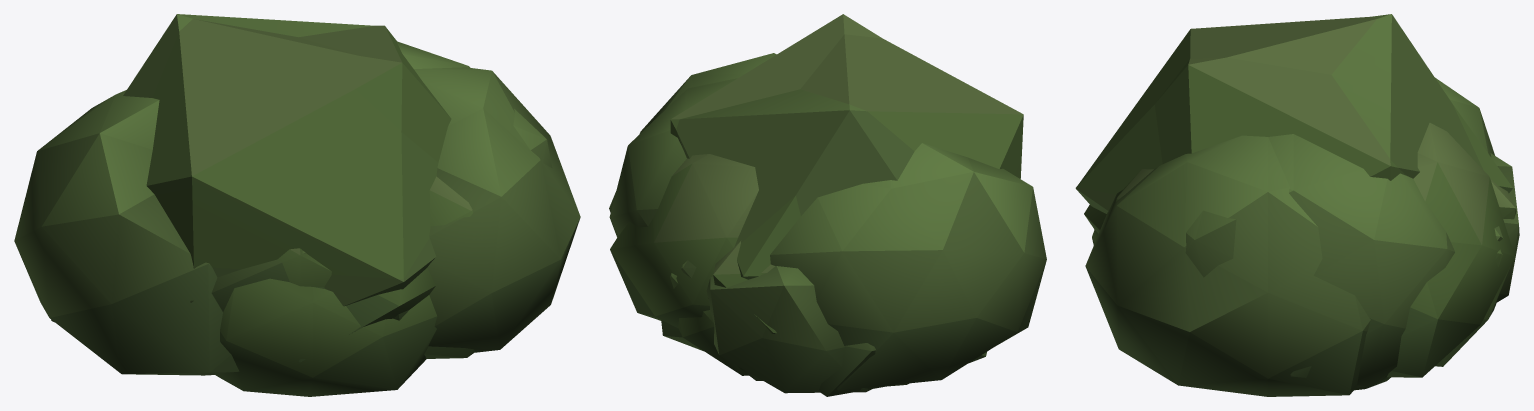
The model's file is arbusto.glb.
3 views of the same model, side by side, from view 1: azimuth 30°, elevation 25°; view 2: azimuth 150°, elevation 25°; view 3: azimuth 270°, elevation 25° (orthographic). The views are drawn at different scales.
Visible parts, largest first — view 1: lo_0, hd_3, hd_5, hd_4, lo_2, hd_0, lo_5, lo_1, hd_1, hd_2; view 2: hd_3, lo_5, lo_0, hd_2, hd_1, lo_2, hd_5, hd_0, lo_4; view 3: hd_5, hd_1, lo_2, hd_2, lo_0, lo_5, hd_3, hd_0, lo_4, lo_1.
Part boxes in pixels (left/top/right/bottom): lo_0: left=146, top=19, right=438, bottom=278; hd_3: left=14, top=90, right=305, bottom=375; hd_5: left=51, top=67, right=580, bottom=352; hd_4: left=214, top=278, right=437, bottom=396; lo_2: left=299, top=25, right=451, bottom=162; hd_0: left=289, top=176, right=474, bottom=362; lo_5: left=123, top=14, right=373, bottom=97; lo_1: left=193, top=238, right=436, bottom=306; hd_1: left=396, top=41, right=552, bottom=167; hd_2: left=277, top=248, right=408, bottom=320; hd_3: left=706, top=143, right=1046, bottom=393; lo_5: left=676, top=89, right=914, bottom=246; lo_0: left=800, top=34, right=1023, bottom=178; hd_2: left=610, top=154, right=758, bottom=327; hd_1: left=609, top=78, right=909, bottom=386; lo_2: left=670, top=14, right=881, bottom=145; hd_5: left=609, top=53, right=986, bottom=396; hd_0: left=661, top=241, right=776, bottom=375; lo_4: left=737, top=195, right=800, bottom=279; hd_5: left=1085, top=135, right=1370, bottom=396; hd_1: left=1185, top=134, right=1503, bottom=387; lo_2: left=1154, top=57, right=1406, bottom=180; hd_2: left=1094, top=123, right=1514, bottom=377; lo_0: left=1077, top=16, right=1376, bottom=194; lo_5: left=1331, top=14, right=1482, bottom=178; hd_3: left=1435, top=77, right=1519, bottom=302; hd_0: left=1084, top=169, right=1516, bottom=366; lo_4: left=1453, top=105, right=1513, bottom=193; lo_1: left=1075, top=184, right=1115, bottom=213.
Bounding box in the file's own units: 2.18 × 1.36 × 1.89.
